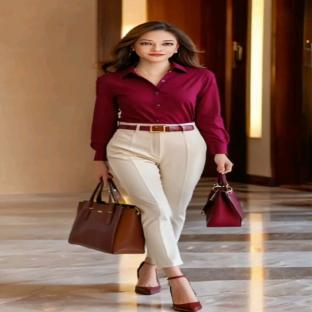Human: (90, 21, 232, 312)
